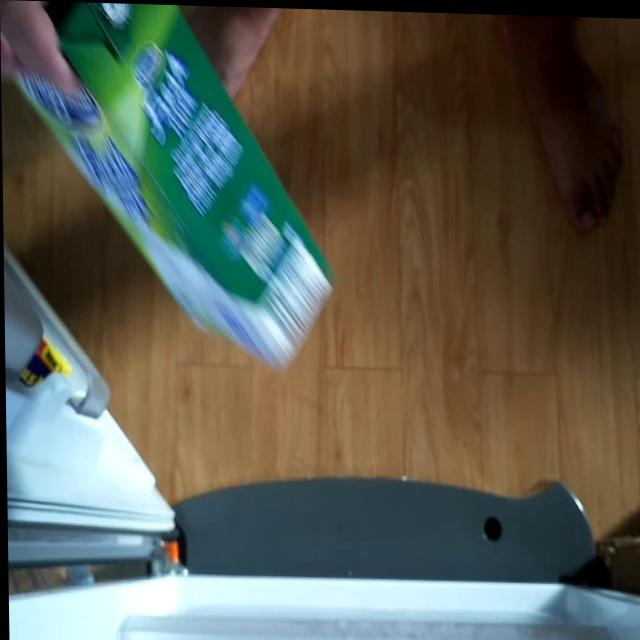milk: (0, 0, 340, 371)
